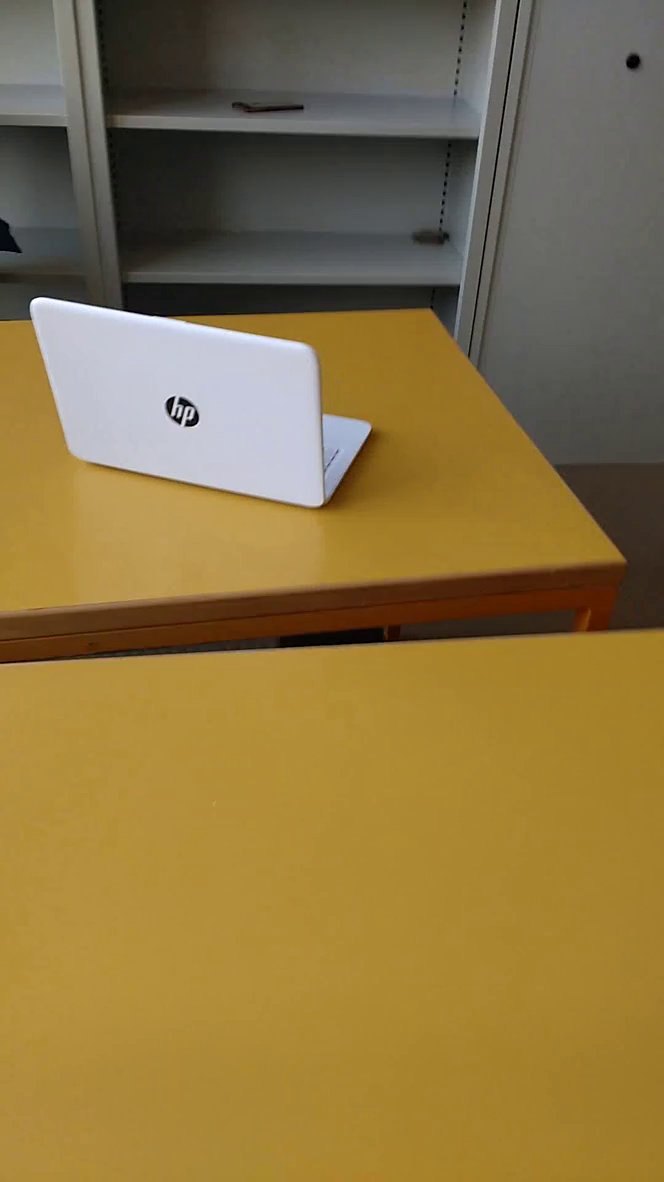laptop: (19, 280, 382, 523)
